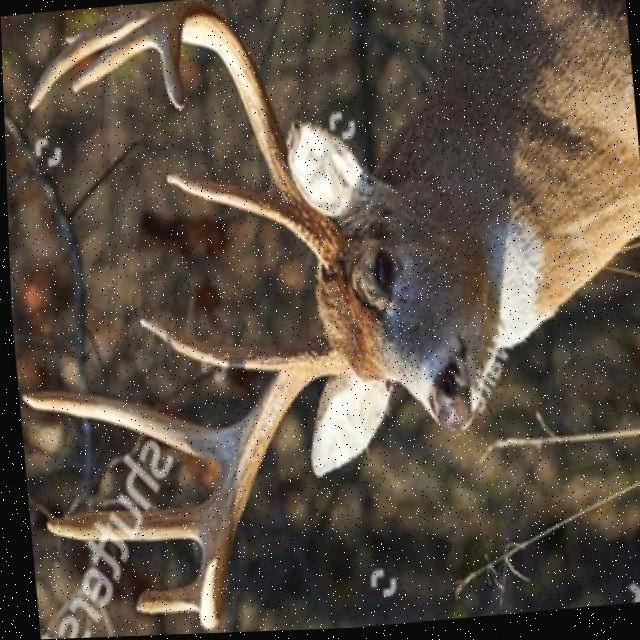L-F: (193, 343, 346, 634)
L-G1: (136, 319, 297, 373)
L-G2: (17, 392, 234, 473)
L-G3: (41, 502, 202, 546)
L-G4: (130, 579, 194, 618)
R-F: (156, 1, 339, 269)
R-G1: (163, 174, 279, 227)
